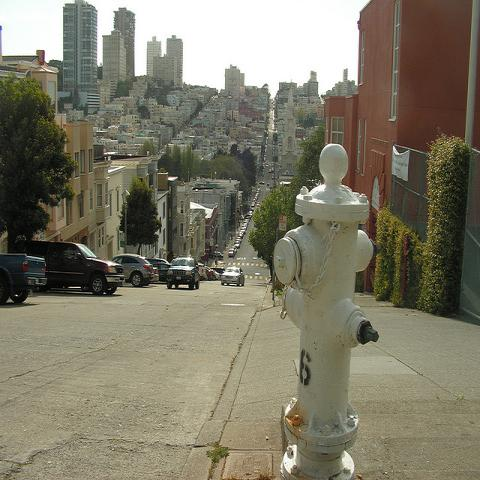car: (10, 239, 124, 295), (0, 252, 48, 306), (112, 251, 154, 287), (166, 256, 201, 290), (221, 266, 245, 286), (142, 266, 160, 286), (153, 263, 171, 281), (198, 263, 208, 281), (205, 266, 213, 280), (210, 268, 225, 274), (228, 249, 235, 257), (236, 237, 242, 242), (235, 244, 240, 249)
truck: (14, 238, 126, 296), (0, 253, 47, 304)
